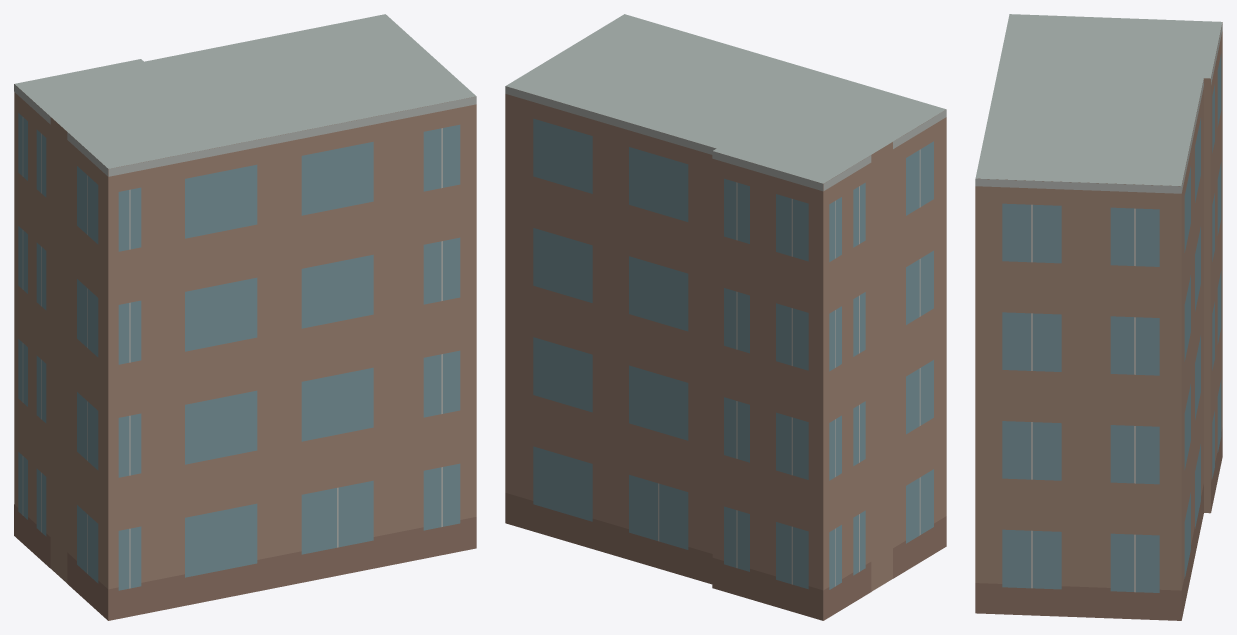
Rendered from survey-upis-32572273.glb.
3 renders of one model, left to right at view 1: azimuth 30°, elevation 25°; view 2: azimuth 150°, elevation 25°; view 3: azimuth 270°, elevation 25°, orthographic. The views are drawn at different scales.
Visible parts, largest first — view 1: survey-upis-32572273.tmp; view 2: survey-upis-32572273.tmp; view 3: survey-upis-32572273.tmp.
Boxes of the visible parts, <box> form: survey-upis-32572273.tmp: <box>14,14,476,620</box>; survey-upis-32572273.tmp: <box>505,14,946,620</box>; survey-upis-32572273.tmp: <box>975,14,1222,620</box>.
Bounding box in the file's own units: 11.81 × 13.9 × 7.17.
